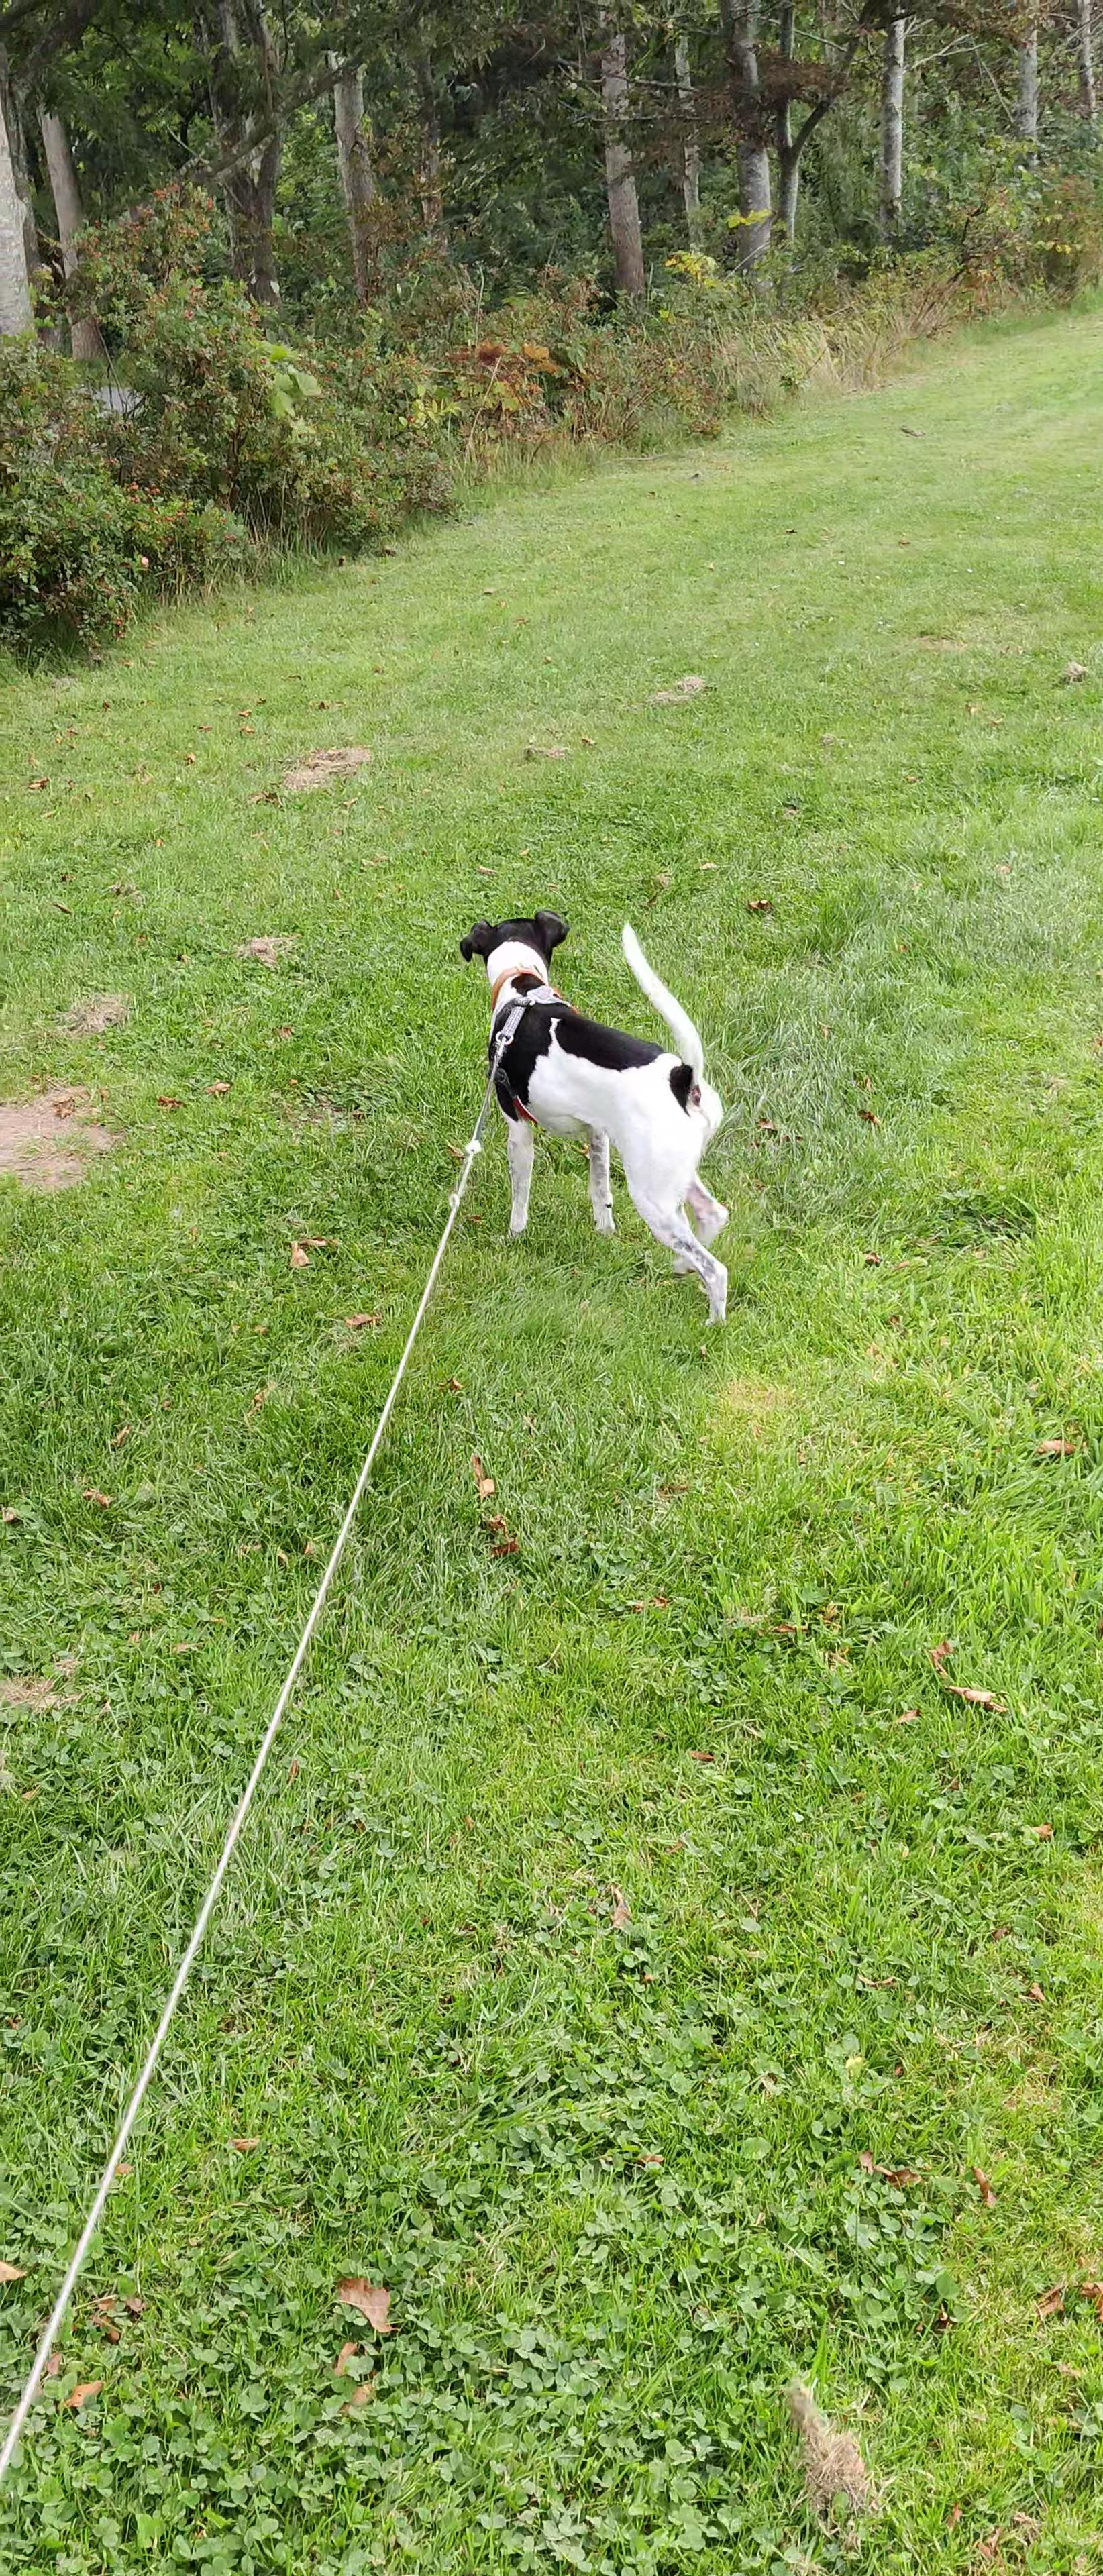Dog: (459, 907, 733, 1327)
